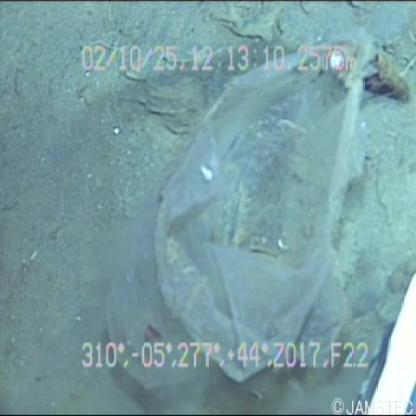Rác: (97, 10, 389, 404)
